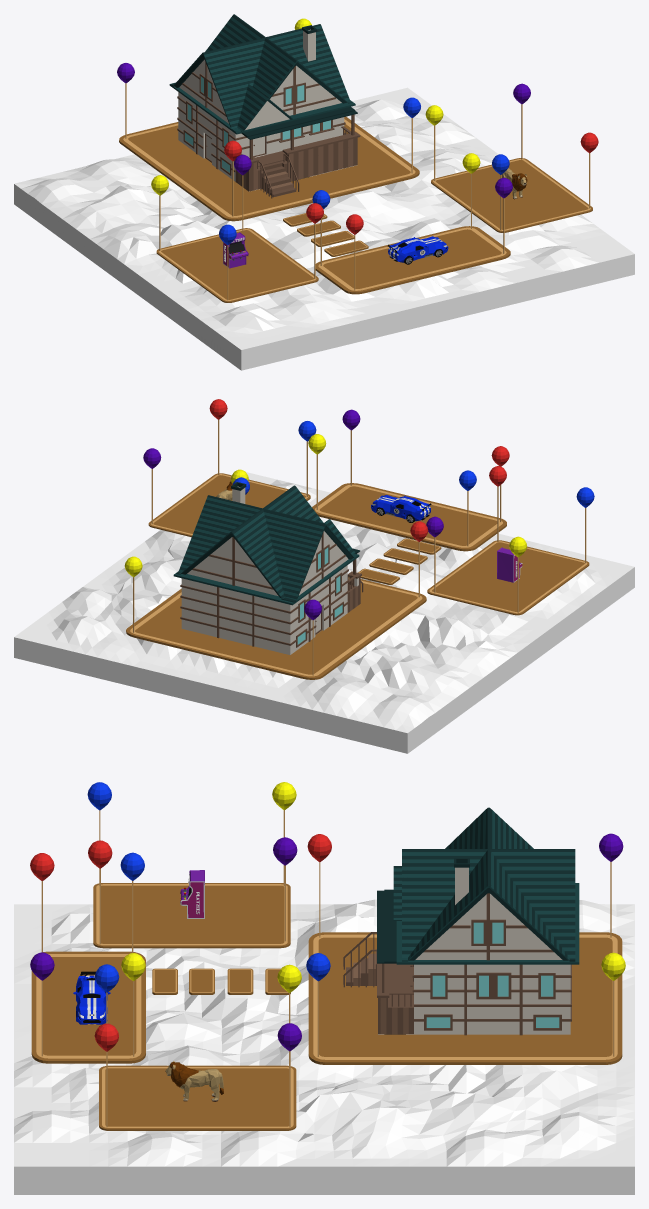
The picture shows the model from 3 angles, top to bottom: view 1: azimuth 30°, elevation 25°; view 2: azimuth 150°, elevation 25°; view 3: azimuth 270°, elevation 25°; orthographic projection. The views are drawn at different scales.
Parts seen in each view (by area): view 1: Cube.013, Cube.793, VEHICLES_RACING_CAR, OBJRANDOM_ARCADE; view 2: Cube.013, Cube.793, VEHICLES_RACING_CAR, OBJRANDOM_ARCADE; view 3: Cube.013, Cube.793, VEHICLES_RACING_CAR, ANIMAL_LEON, OBJRANDOM_ARCADE.
Boxes of the visible parts, box(x1,y1,x2,y2) form: Cube.013: box(14, 18, 634, 370); Cube.793: box(169, 14, 360, 198); VEHICLES_RACING_CAR: box(387, 236, 448, 264); OBJRANDOM_ARCADE: box(223, 232, 248, 268); Cube.013: box(14, 399, 634, 753); Cube.793: box(173, 482, 363, 654); VEHICLES_RACING_CAR: box(371, 495, 431, 522); OBJRANDOM_ARCADE: box(497, 547, 522, 582); Cube.013: box(14, 782, 634, 1194); Cube.793: box(343, 807, 579, 1035); VEHICLES_RACING_CAR: box(73, 971, 110, 1024); ANIMAL_LEON: box(165, 1061, 223, 1101); OBJRANDOM_ARCADE: box(180, 870, 204, 918).
Bounding box in the file's own units: 4000 × 1638 × 4000.
Materials: 35 (3 with a texture image).
